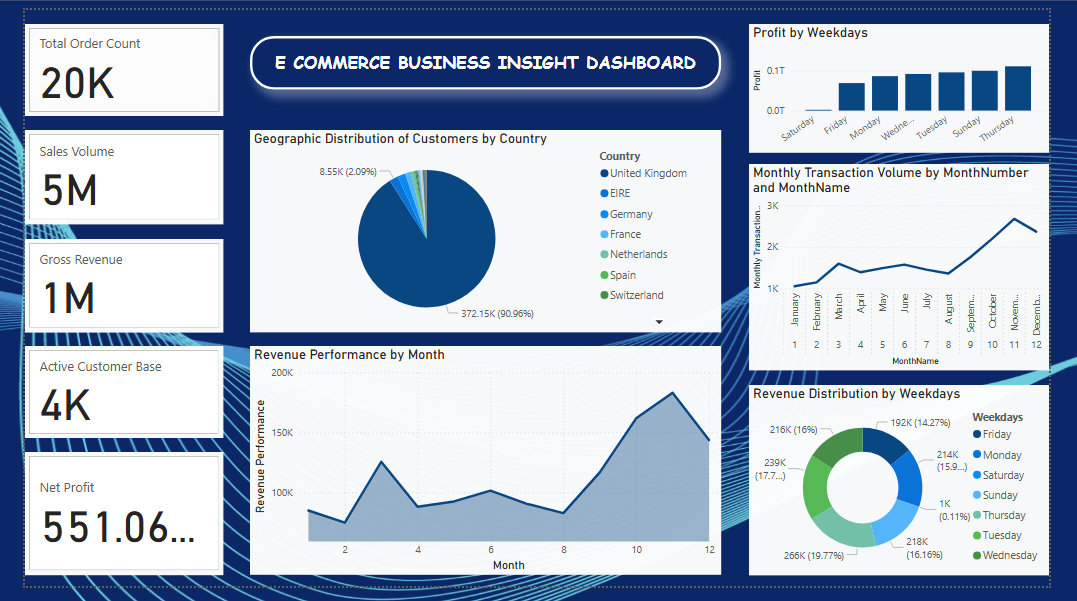

The dashboard page shown, as its layout file describes it:
{"tool":"powerbi","page":{"name":"Page 1","canvas":[1280,720],"ordinal":0},"visuals":[{"type":"cardVisual","fields":{"Data":["Retail.Total Transactions"]},"box":[0,17.3,248.1,115.4],"z":0},{"type":"cardVisual","fields":{"Data":["Retail.Total Quantity"]},"box":[0,150,248.1,117.7],"z":1000},{"type":"cardVisual","fields":{"Data":["Retail.Total Revenue"]},"box":[0,286.2,248.1,116.5],"z":2000},{"type":"cardVisual","fields":{"Data":["Retail.Unique Customers"]},"box":[0,420,247.5,115],"z":3000},{"type":"lineChart","fields":{"Y":["Retail.Total Transactions"],"Category":["Retail.MonthNumber","Retail.MonthName"]},"box":[905,192.5,375,257.5],"z":4000},{"type":"donutChart","fields":{"Category":["Retail.Weekdays"],"Y":["Retail.Total Revenue"]},"box":[905,468.8,375,237.5],"z":5000},{"type":"cardVisual","fields":{"Data":["Sum(Retail.Total Profit)"]},"box":[0,552.5,247.5,153.8],"z":6000},{"type":"columnChart","fields":{"Y":["Sum(Retail.Total Profit)"],"Category":["Retail.Weekdays"]},"box":[905,17.5,375,161.2],"z":7000},{"type":"pieChart","fields":{"Y":["CountNonNull(Retail.Customer ID)"],"Category":["Retail.Country"]},"box":[281.1,149.9,588.8,252.7],"z":8000},{"type":"areaChart","fields":{"Category":["Retail.MonthNumber","Retail.MonthName"],"Y":["Retail.Total Revenue"]},"box":[281.2,420,588.8,286.2],"z":9000},{"type":"textbox","box":[281.1,31.9,588.8,66.5],"z":10000}]}

Visuals, with their boxes in screenshot pixels (x1, y1, x2, y2), scaled from the page's 1280x720 canvas onto the 1077x601 screenshot:
cardVisual - Retail.Total Transactions: (left=0, top=14, right=209, bottom=111)
cardVisual - Retail.Total Quantity: (left=0, top=125, right=209, bottom=223)
cardVisual - Retail.Total Revenue: (left=0, top=239, right=209, bottom=336)
cardVisual - Retail.Unique Customers: (left=0, top=351, right=208, bottom=447)
lineChart - Retail.Total Transactions x Retail.MonthNumber: (left=761, top=161, right=1076, bottom=376)
donutChart - Retail.Weekdays x Retail.Total Revenue: (left=761, top=391, right=1076, bottom=590)
cardVisual - Sum(Retail.Total Profit): (left=0, top=461, right=208, bottom=590)
columnChart - Sum(Retail.Total Profit) x Retail.Weekdays: (left=761, top=15, right=1076, bottom=149)
pieChart - CountNonNull(Retail.Customer ID) x Retail.Country: (left=237, top=125, right=732, bottom=336)
areaChart - Retail.MonthNumber x Retail.MonthName: (left=237, top=351, right=732, bottom=589)
textbox: (left=237, top=27, right=732, bottom=82)
